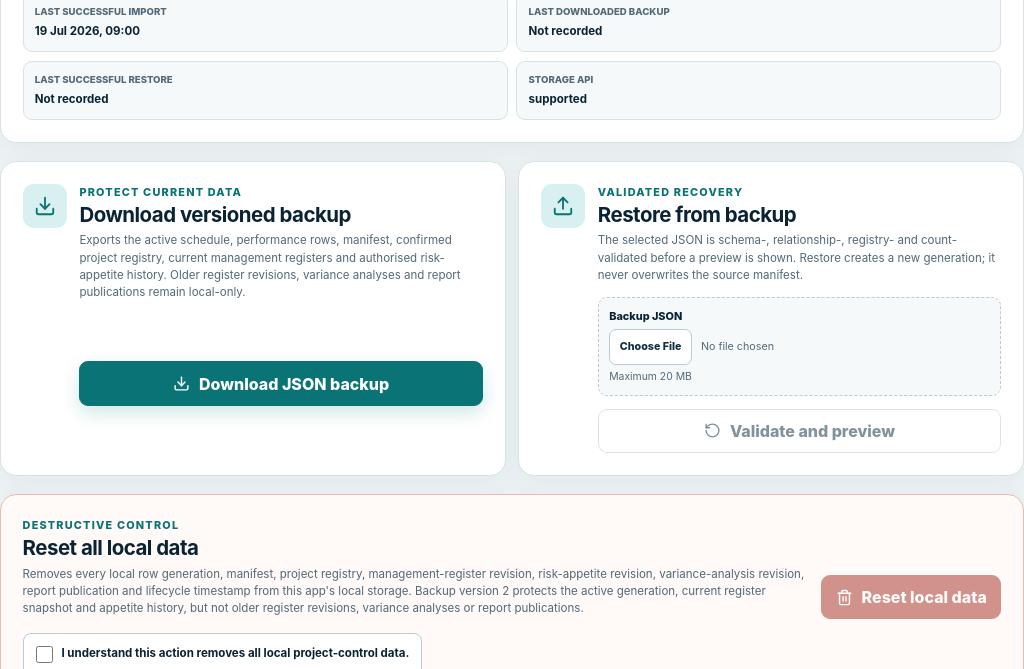
Test: settings and data page › gates destructive reset behind a plain-language confirmation
(page scrolled)
Expected: the text "Backup version 2 protects the active generation" is shown, [23,566,804,615]
Expected: the button "Reset local data" is disabled, [821,575,1001,619]
Click the checkbox labelled "I understand this action removes all local project-control data.": (44, 654) [36,646,53,662]
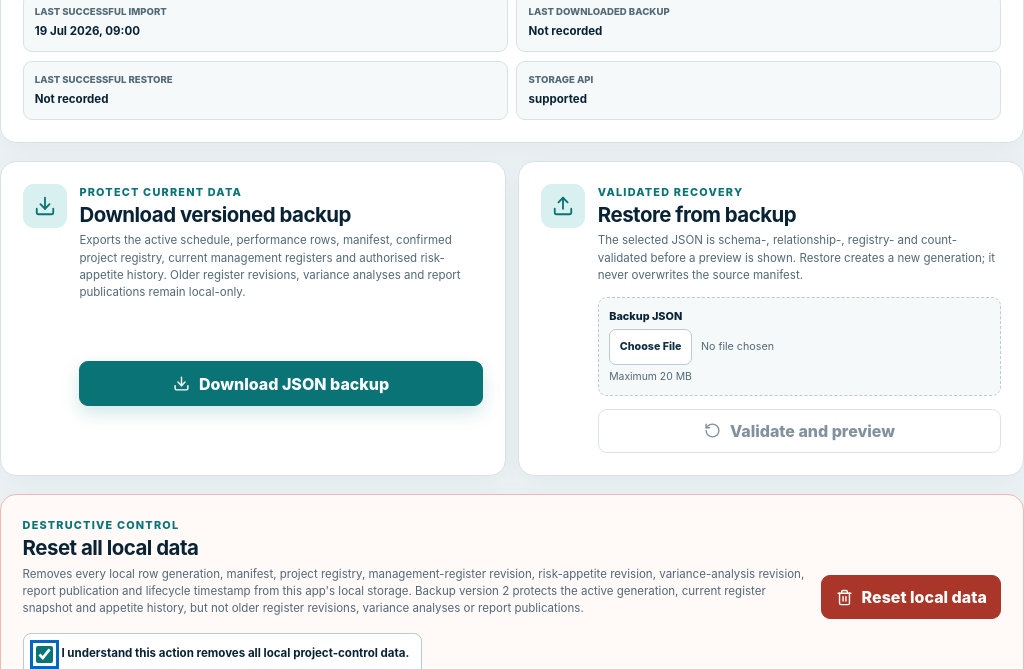
Click the button "Reset local data": (911, 597) [821,575,1001,619]
(page scrolled)
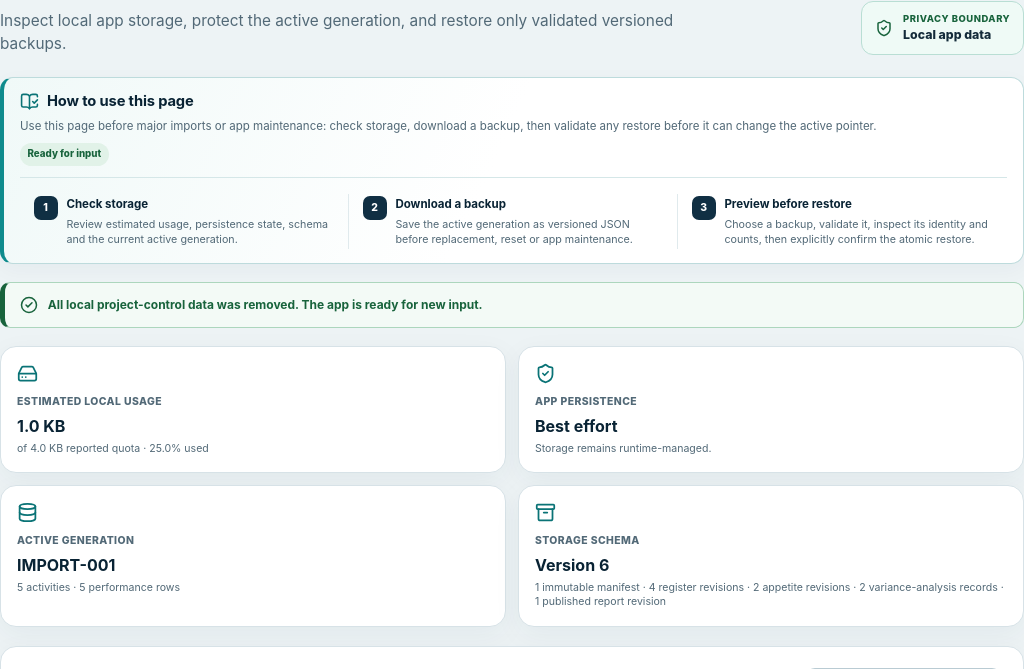
Expected: the text "All local project-control data was removed. The app is ready for new input." is shown, [48,296,483,314]
